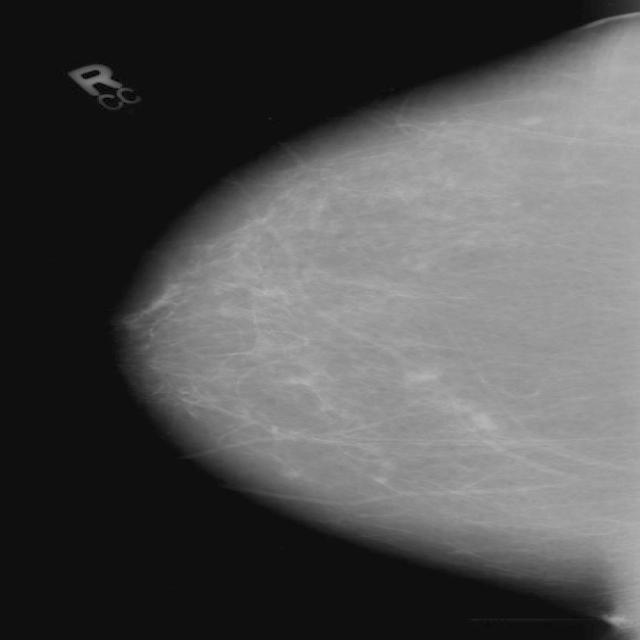tumour: (398, 369, 438, 385), (467, 412, 495, 431)
